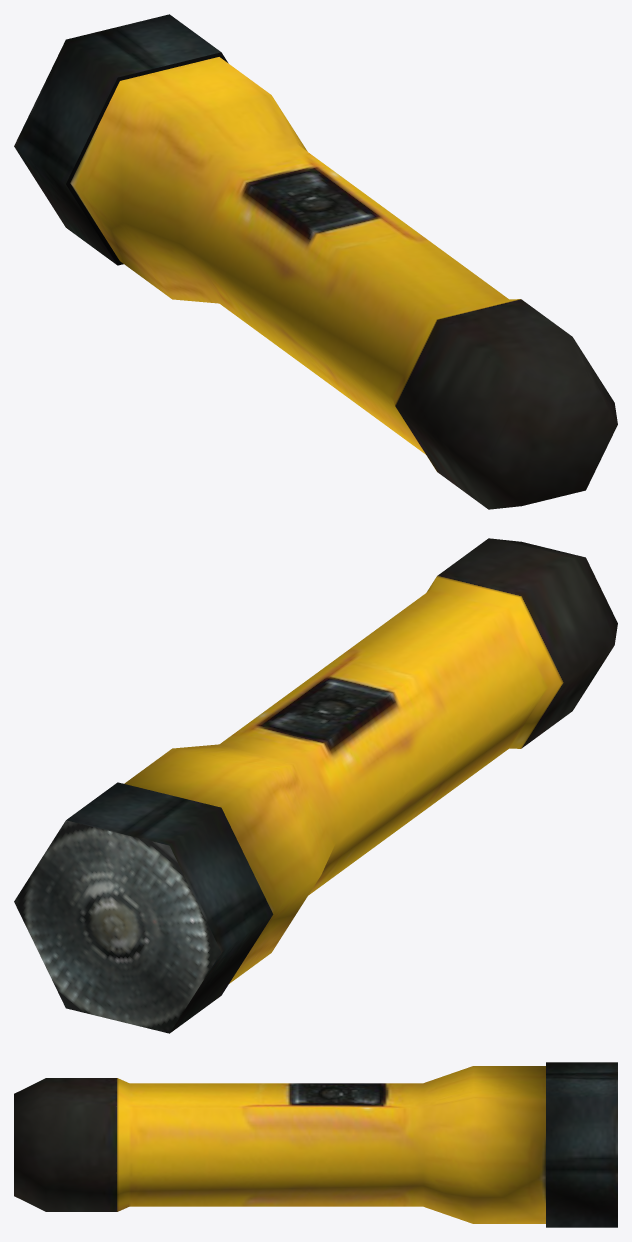
File: Flashlight.glb
3 views of the same model, one above another, from view 1: azimuth 30°, elevation 25°; view 2: azimuth 150°, elevation 25°; view 3: azimuth 270°, elevation 25° (orthographic). The views are drawn at different scales.
Parts seen in each view (by area): view 1: Flashlight; view 2: Flashlight; view 3: Flashlight.
Part boxes in pixels (x1=…): Flashlight: x1=14, y1=14, x2=617, y2=509; Flashlight: x1=14, y1=538, x2=617, y2=1033; Flashlight: x1=14, y1=1062, x2=617, y2=1227.
Bounding box in the file's own units: 0.0678 × 0.0587 × 0.2469.
Materials: 1 (1 with a texture image).
